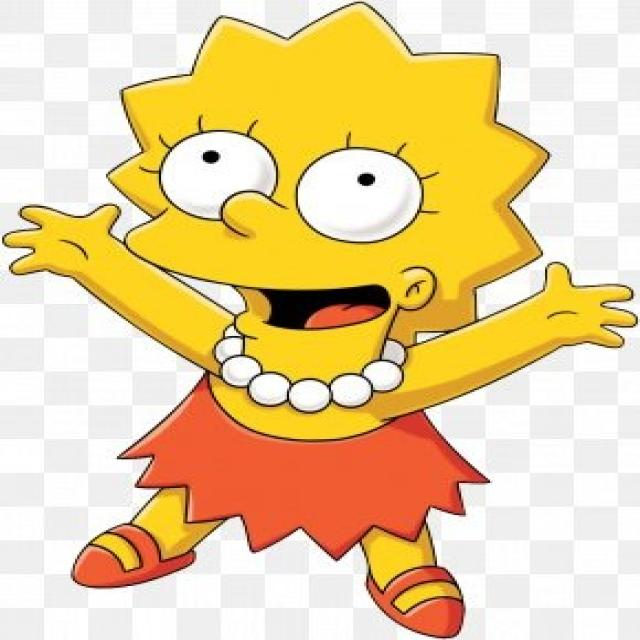Lisa Simpson: (98, 1, 560, 418)
